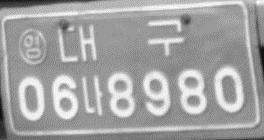0: (212, 66, 246, 115), (17, 76, 45, 122)
6: (52, 73, 80, 122)
8: (106, 71, 137, 119), (177, 69, 209, 115)
9: (141, 68, 172, 117)
나: (80, 73, 105, 119)
대구_D: (57, 16, 188, 64)
영: (18, 28, 49, 66)
